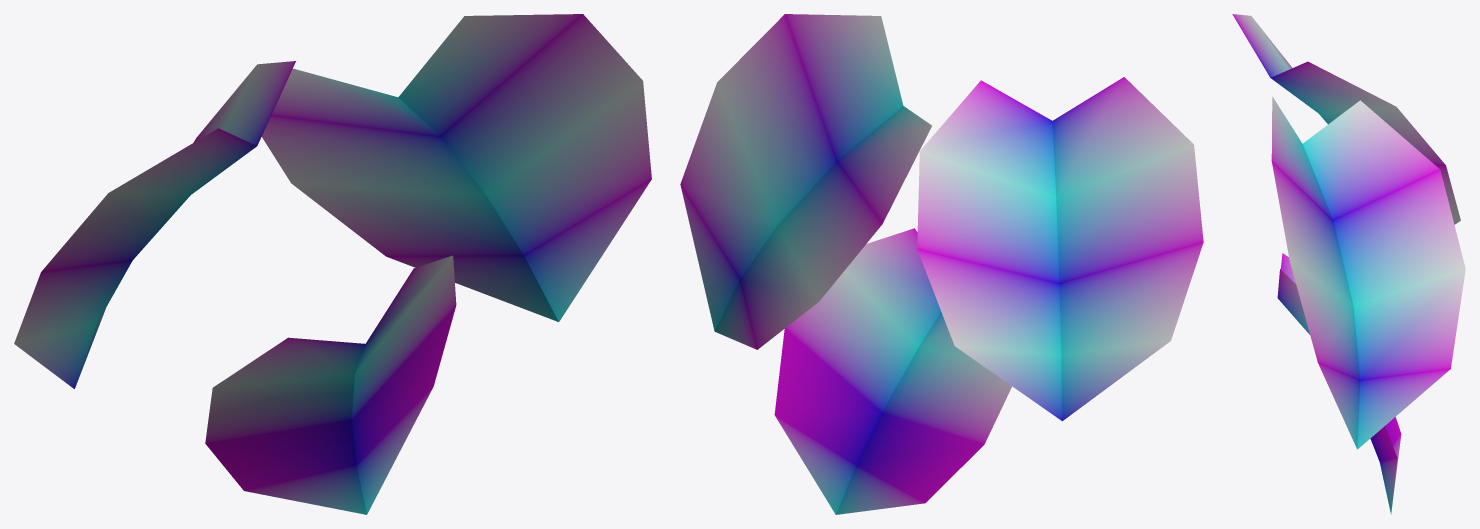
The model's file is Leaf.fbx.
The picture shows the model from 3 angles, left to right: view 1: azimuth 30°, elevation 25°; view 2: azimuth 150°, elevation 25°; view 3: azimuth 270°, elevation 25°; orthographic projection. The views are drawn at different scales.
Visible parts, largest first — view 1: Leaves; view 2: Leaves; view 3: Leaves.
Boxes of the visible parts, x1=… form: Leaves: x1=14, y1=14, x2=651, y2=514; Leaves: x1=680, y1=14, x2=1203, y2=514; Leaves: x1=1232, y1=14, x2=1465, y2=514.
Size of the model in its own units: 1.51 by 1.27 by 0.6297.
